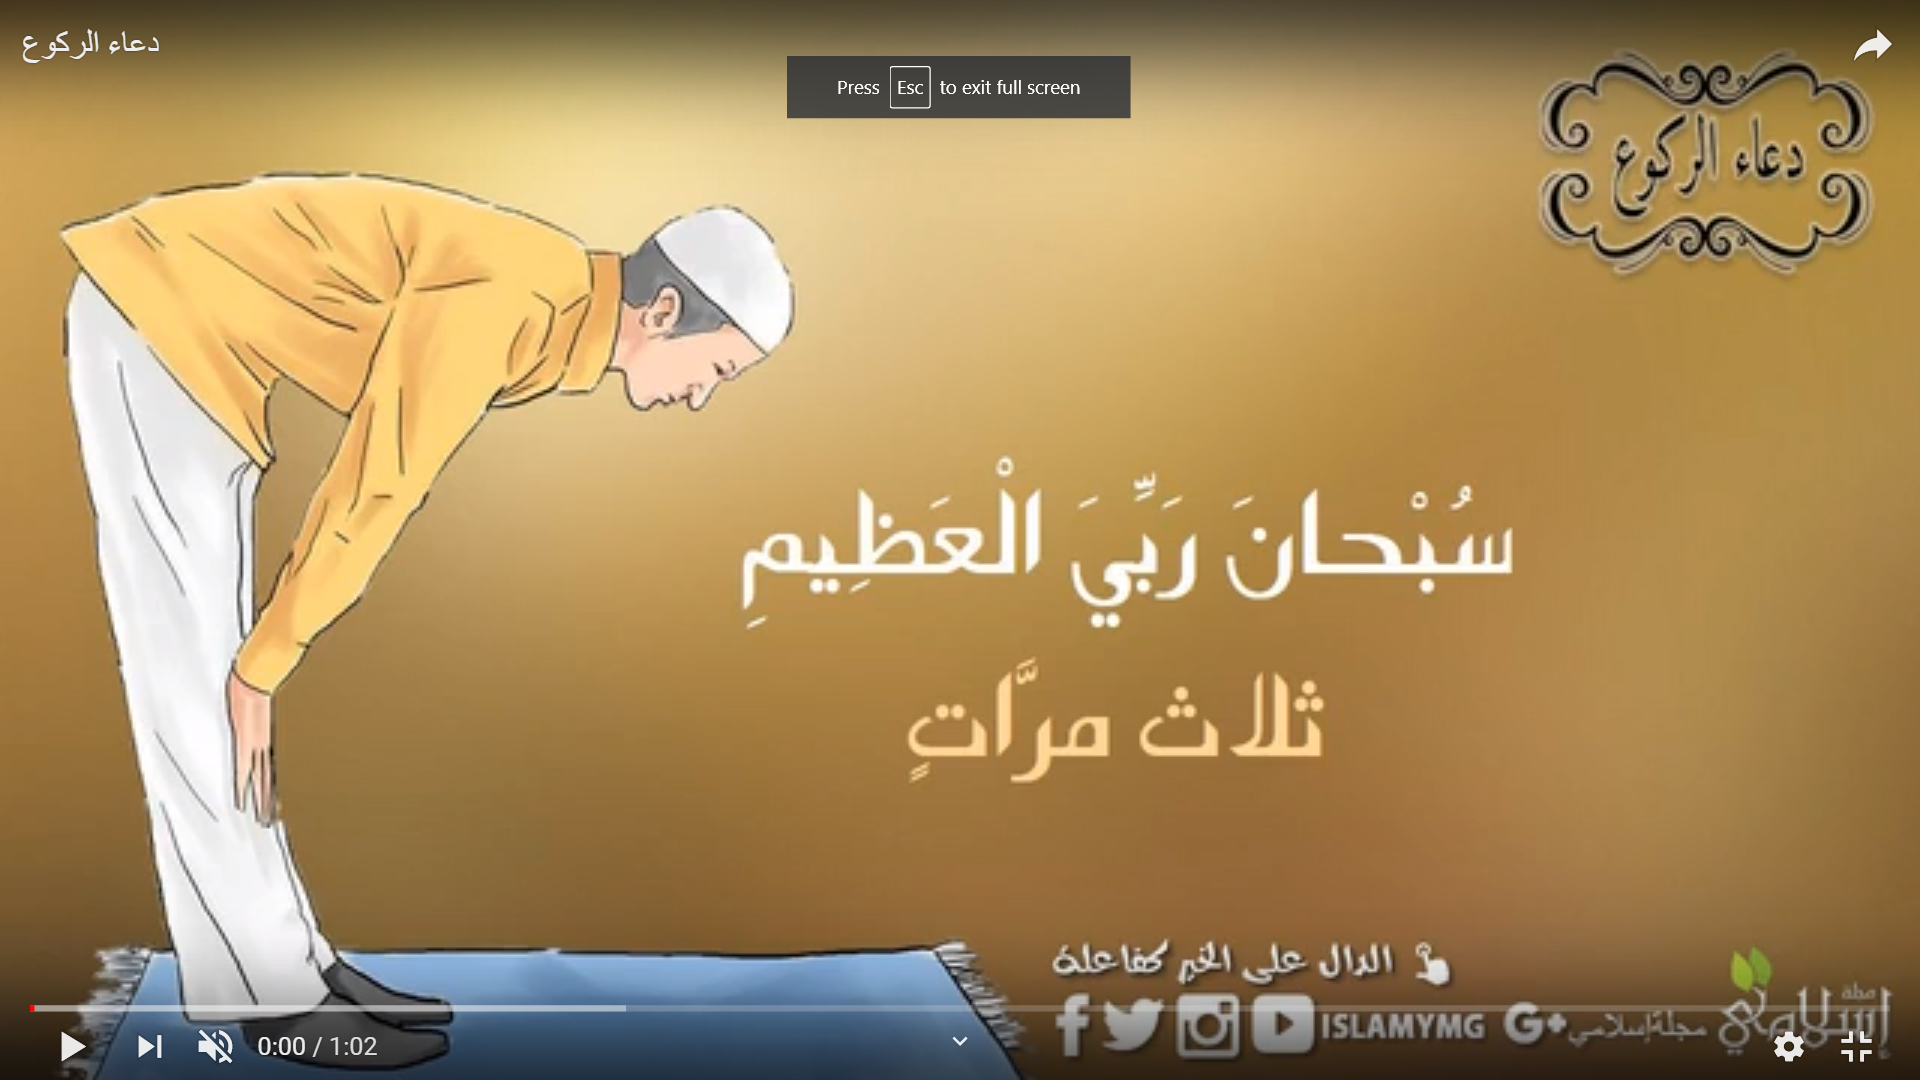ruku: (15, 162, 898, 1067)
